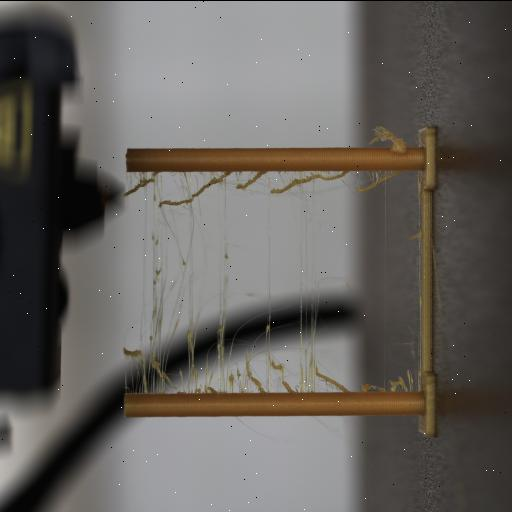stringing: (126, 170, 338, 394)
